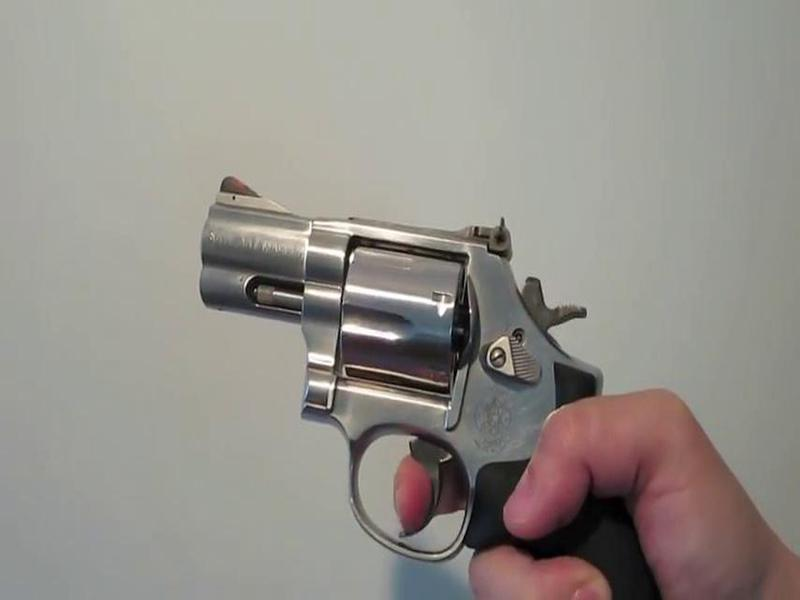Revolver: (125, 167, 655, 578)
